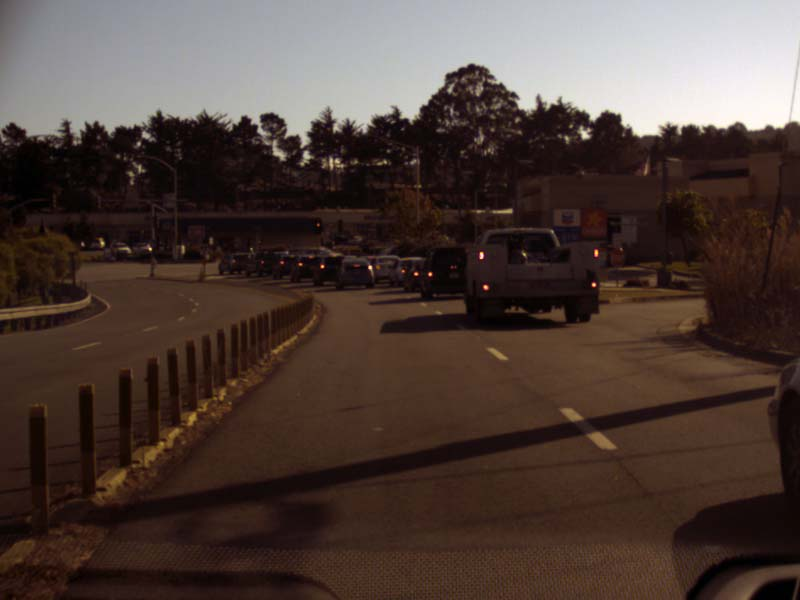Red: (313, 218, 321, 234)
